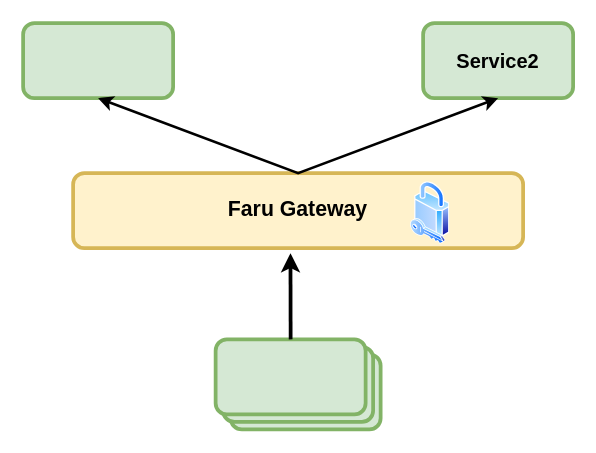
This 596x453 diagram has some shape labels left out. Each missing label, with the box of its shape:
Clients: (213, 337, 367, 416)
Service1: (21, 21, 174, 99)
